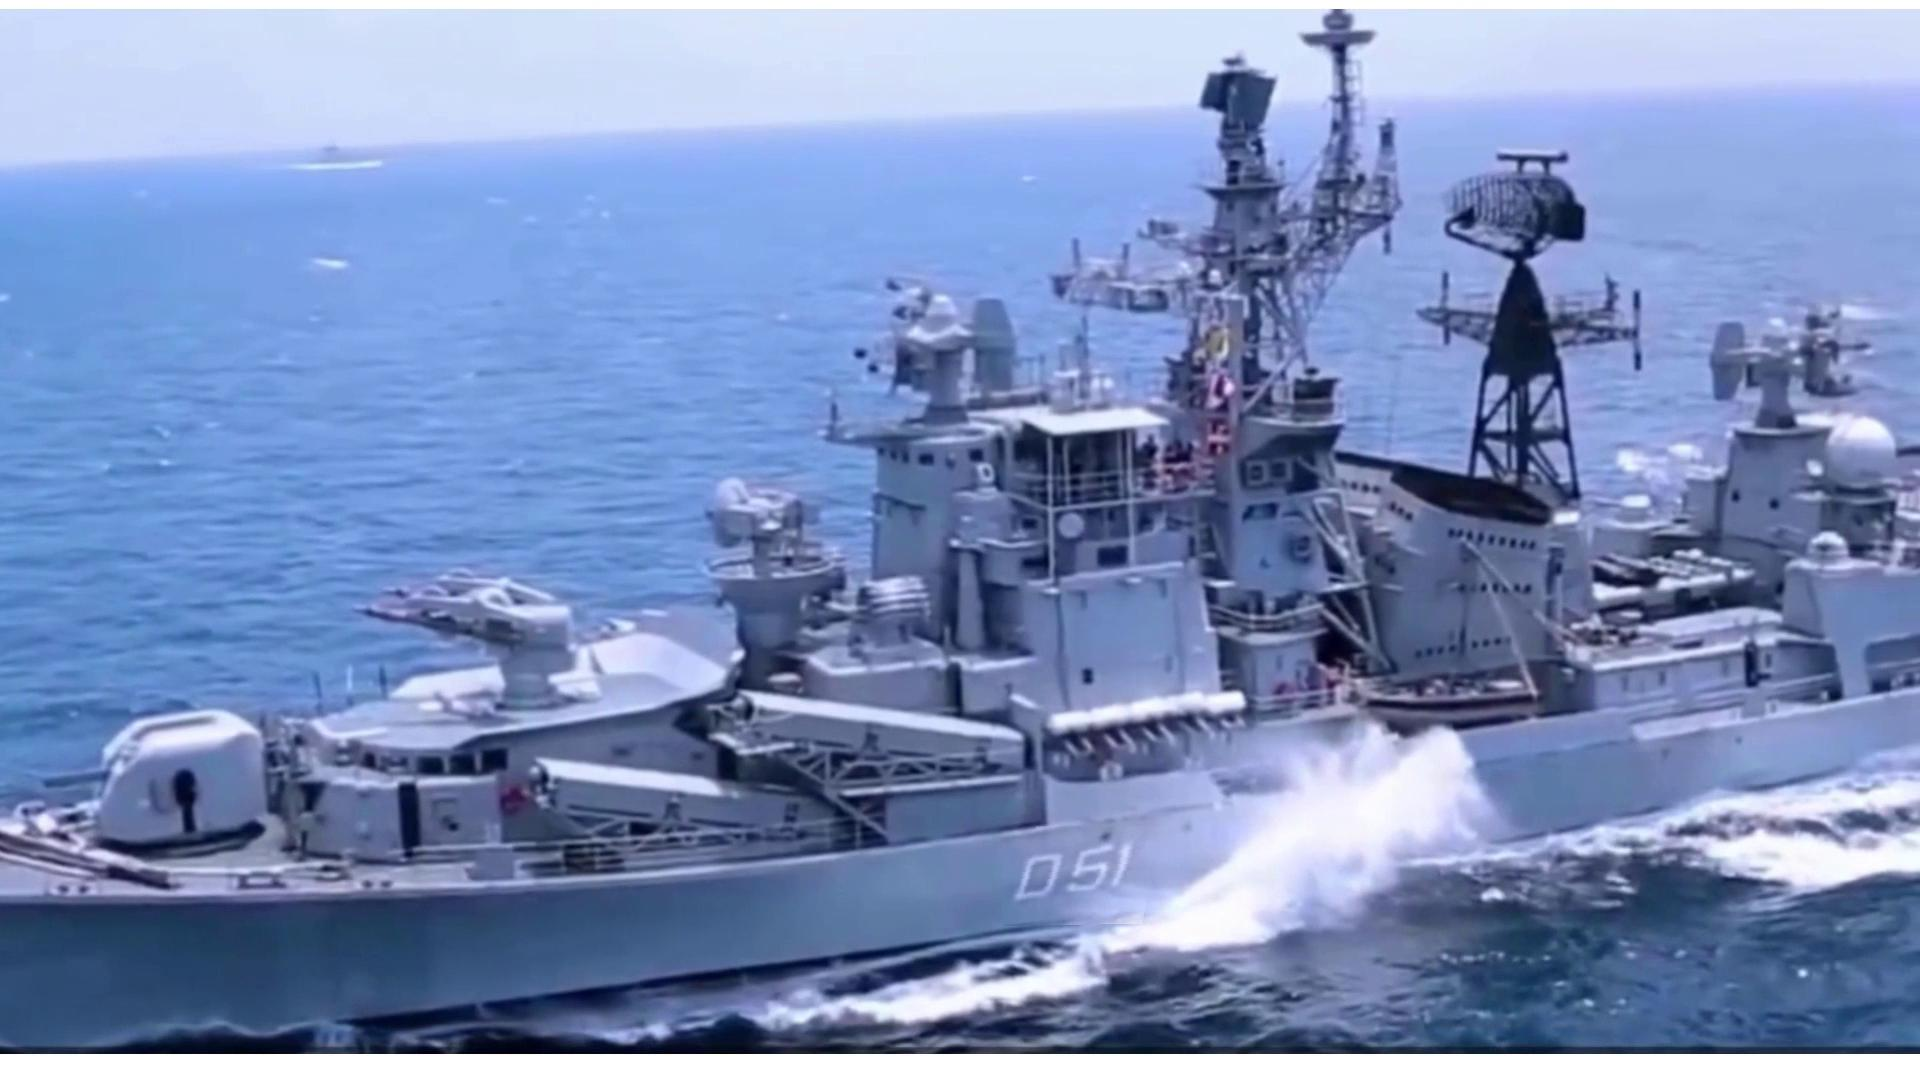OCR: (1002, 825, 1156, 926)
